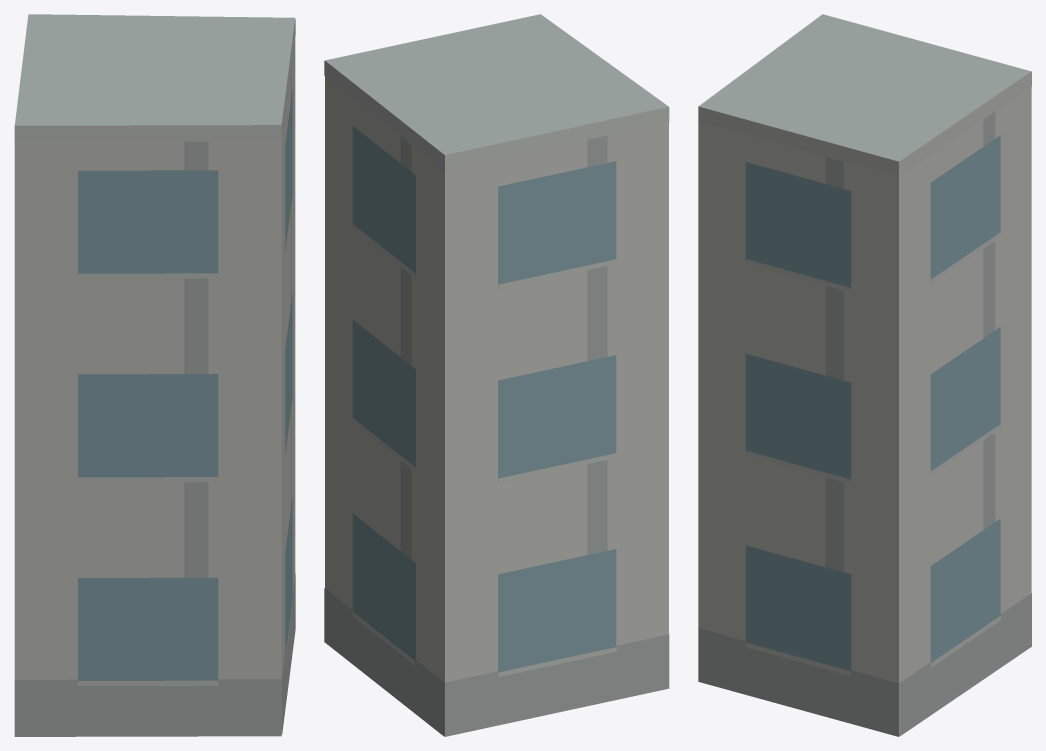
File: survey-upis-32903952.glb
The picture shows the model from 3 angles, left to right: view 1: azimuth 30°, elevation 25°; view 2: azimuth 150°, elevation 25°; view 3: azimuth 270°, elevation 25°; orthographic projection. The views are drawn at different scales.
Parts seen in each view (by area): view 1: survey-upis-32903952.tmp; view 2: survey-upis-32903952.tmp; view 3: survey-upis-32903952.tmp.
Part boxes in pixels (x1,y1,x2,y2): survey-upis-32903952.tmp: [14, 14, 295, 736]; survey-upis-32903952.tmp: [324, 14, 669, 736]; survey-upis-32903952.tmp: [698, 14, 1031, 736].
Bounding box in the file's own units: 5.04 × 9.15 × 4.81.
